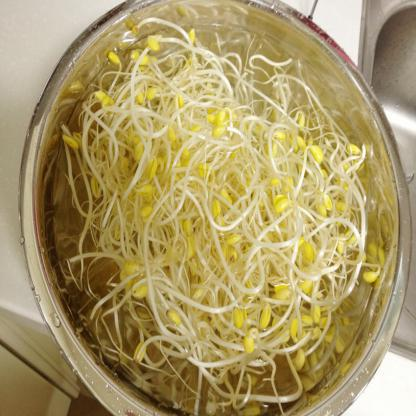bean sprouts: (95, 73, 365, 367)
